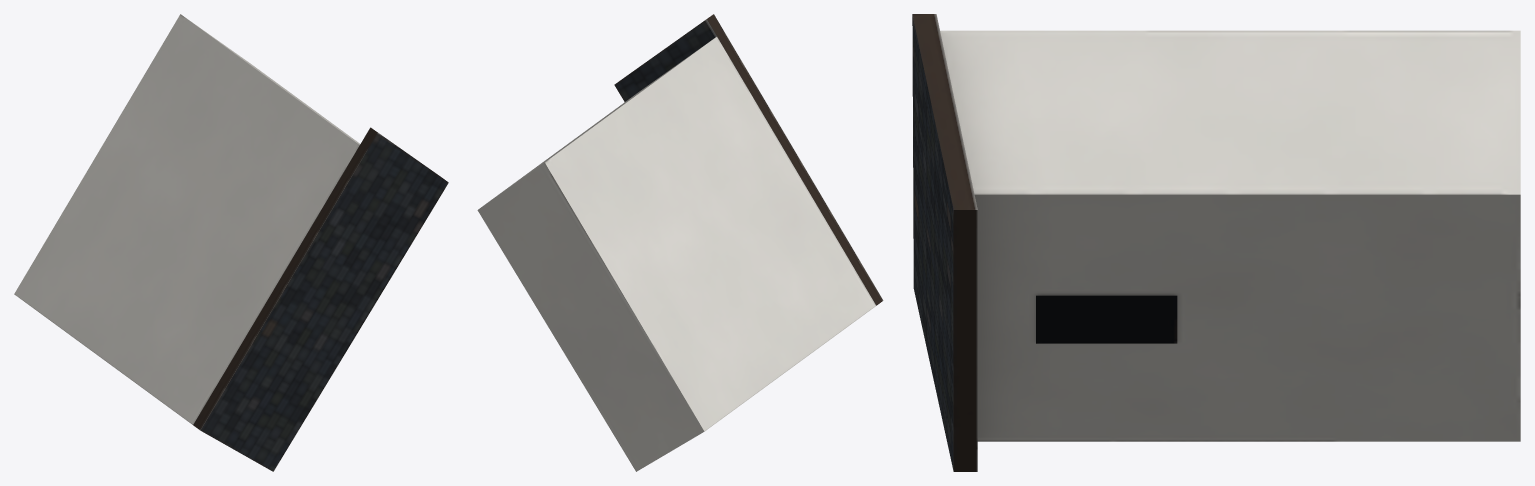
Rendered from house_b0499.obj.
The picture shows the model from 3 angles, left to right: view 1: azimuth 30°, elevation 25°; view 2: azimuth 150°, elevation 25°; view 3: azimuth 270°, elevation 25°; orthographic projection. The views are drawn at different scales.
Visible parts, largest first — view 1: house_b0499; view 2: house_b0499; view 3: house_b0499.
Part boxes in pixels (box(x1,y1,x2,y2)): house_b0499: box(14, 14, 448, 471); house_b0499: box(477, 14, 883, 471); house_b0499: box(912, 14, 1520, 471).
Size of the model in its own units: 4.87 by 5.82 by 6.05.
Materials: 1 (1 with a texture image).
